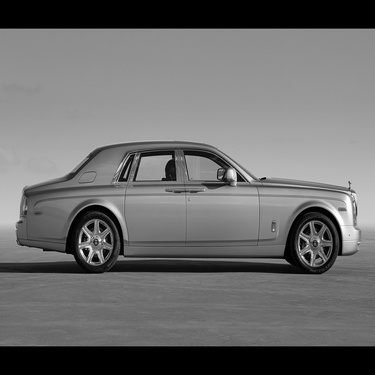car: (13, 133, 365, 277)
